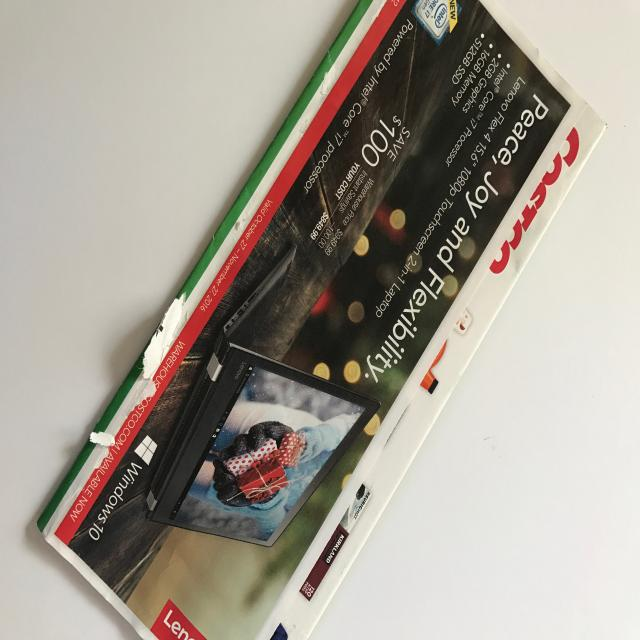paper: (36, 0, 609, 639)
